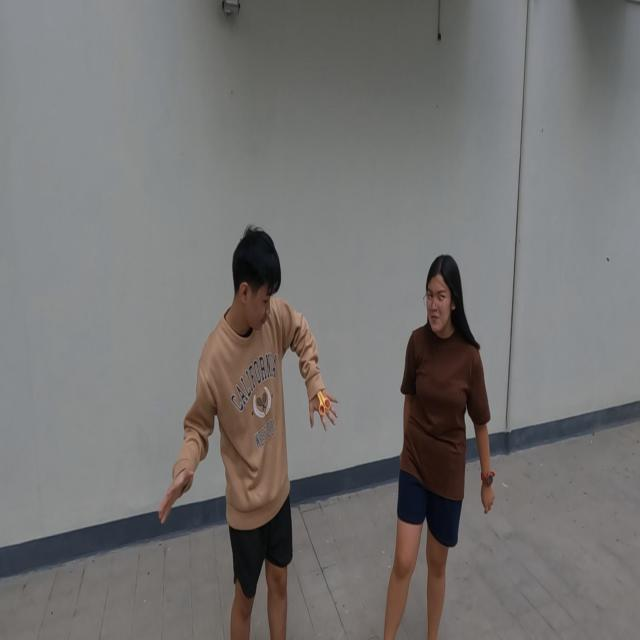scissor: (314, 387, 330, 417)
